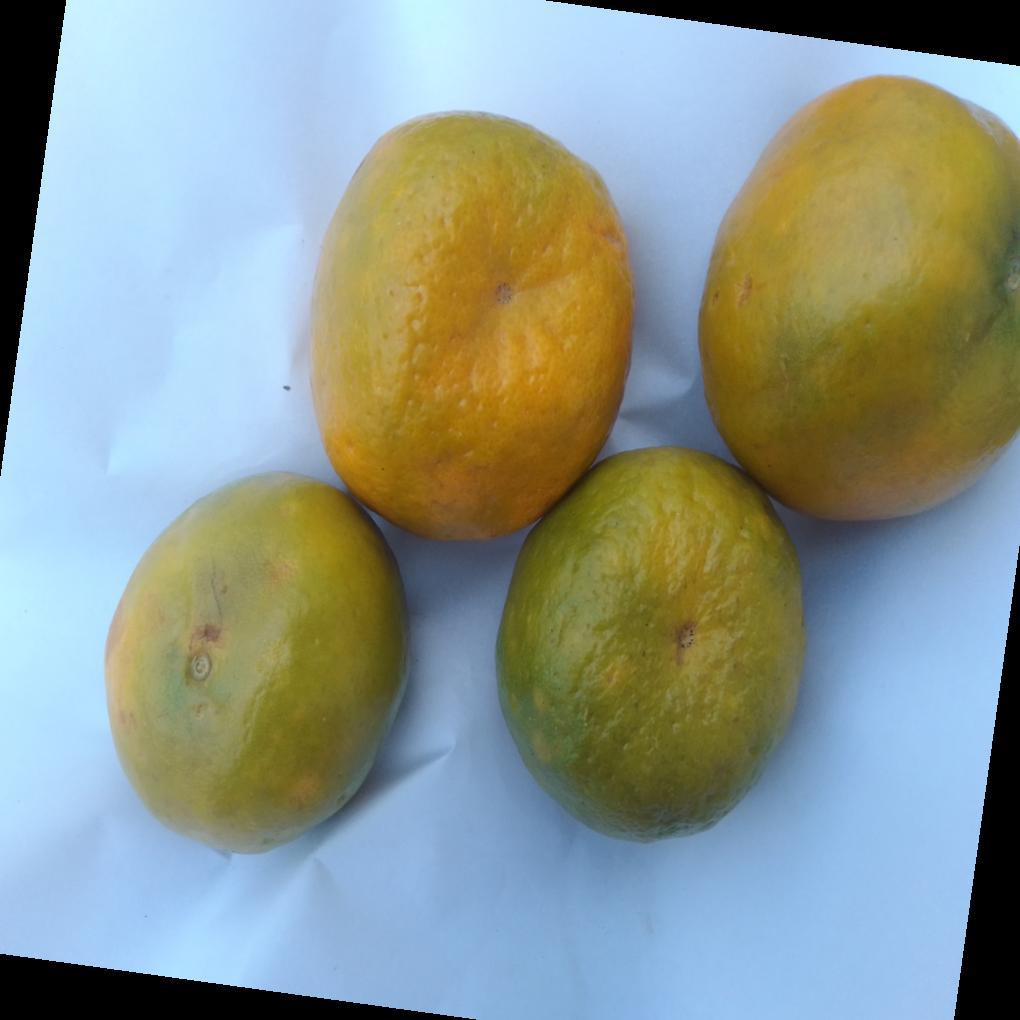FreshGuava: (103, 77, 1020, 854)
